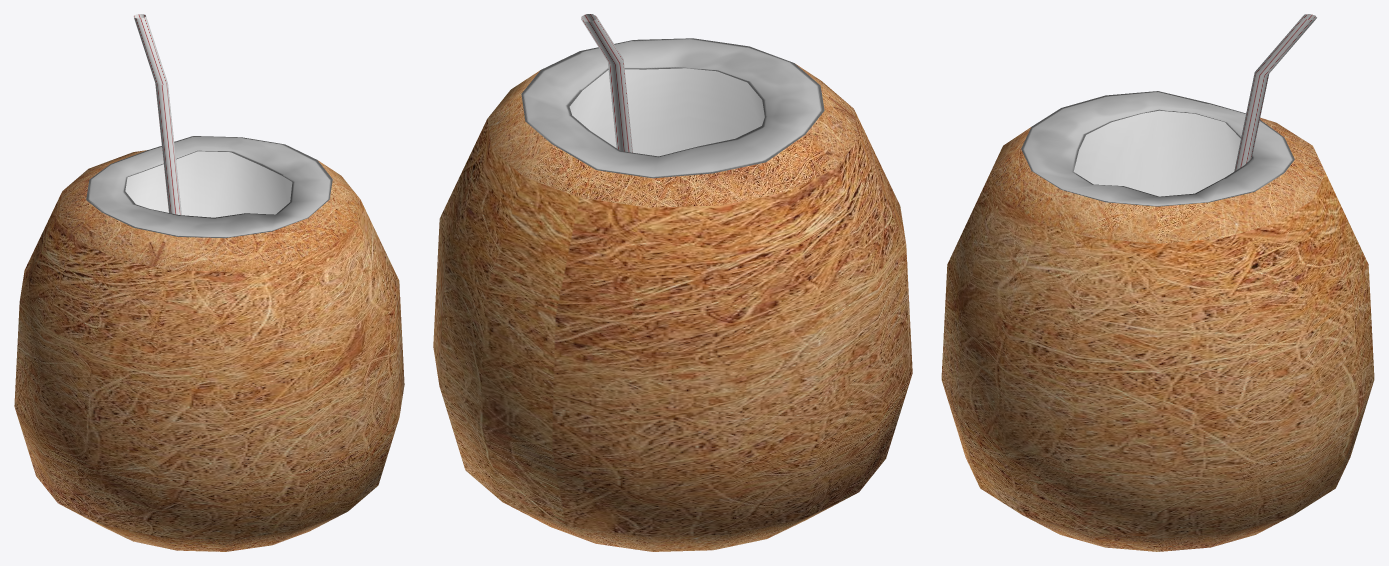
File: COCO.fbx
The picture shows the model from 3 angles, left to right: view 1: azimuth 30°, elevation 25°; view 2: azimuth 150°, elevation 25°; view 3: azimuth 270°, elevation 25°; orthographic projection. The views are drawn at different scales.
Visible parts, largest first — view 1: coconut; view 2: coconut; view 3: coconut.
Boxes of the visible parts, bbox=[...] form: coconut: bbox=[14, 14, 404, 551]; coconut: bbox=[433, 14, 912, 551]; coconut: bbox=[941, 14, 1374, 551].
Bounding box in the file's own units: 194 × 236 × 194.
